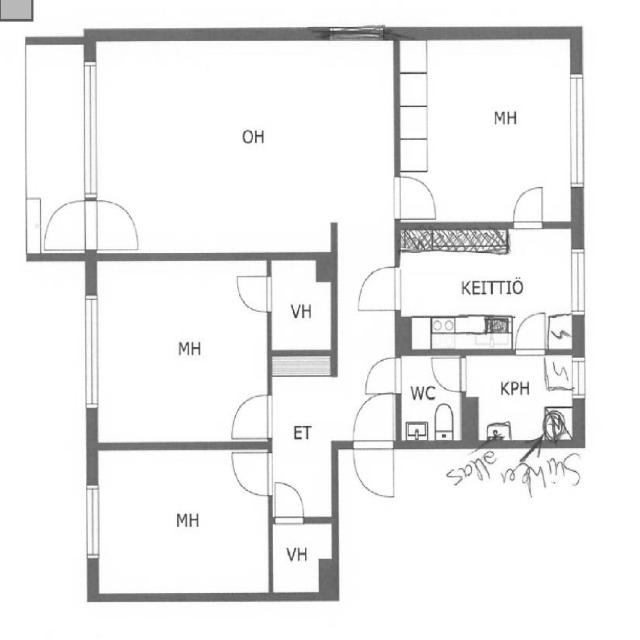door: (75, 194, 145, 250), (37, 194, 97, 252), (354, 262, 408, 317), (350, 441, 398, 502), (225, 445, 278, 499), (390, 172, 442, 224), (225, 389, 274, 442), (349, 392, 396, 447), (230, 270, 276, 315), (508, 180, 548, 231), (361, 355, 404, 399), (511, 309, 549, 356), (272, 478, 308, 524), (431, 354, 468, 396)
window: (72, 48, 106, 209), (76, 286, 105, 420), (565, 66, 591, 195), (80, 474, 104, 570), (568, 243, 589, 322), (323, 22, 388, 47), (572, 354, 588, 405)
zone: (88, 38, 394, 255), (393, 33, 581, 230), (86, 255, 277, 448), (93, 444, 273, 600), (393, 231, 581, 347), (462, 351, 581, 445), (270, 257, 334, 355), (401, 352, 465, 444), (272, 519, 332, 597)
